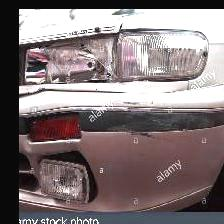head_lamp: (20, 33, 223, 97)
